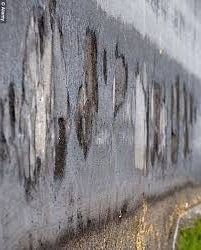pothole: (18, 1, 59, 197), (67, 26, 98, 165), (107, 38, 130, 123), (132, 67, 149, 179), (165, 75, 182, 166), (145, 80, 162, 169), (53, 117, 68, 187), (181, 81, 188, 168), (7, 82, 16, 135), (101, 47, 108, 87), (188, 93, 195, 127), (193, 105, 199, 125)
